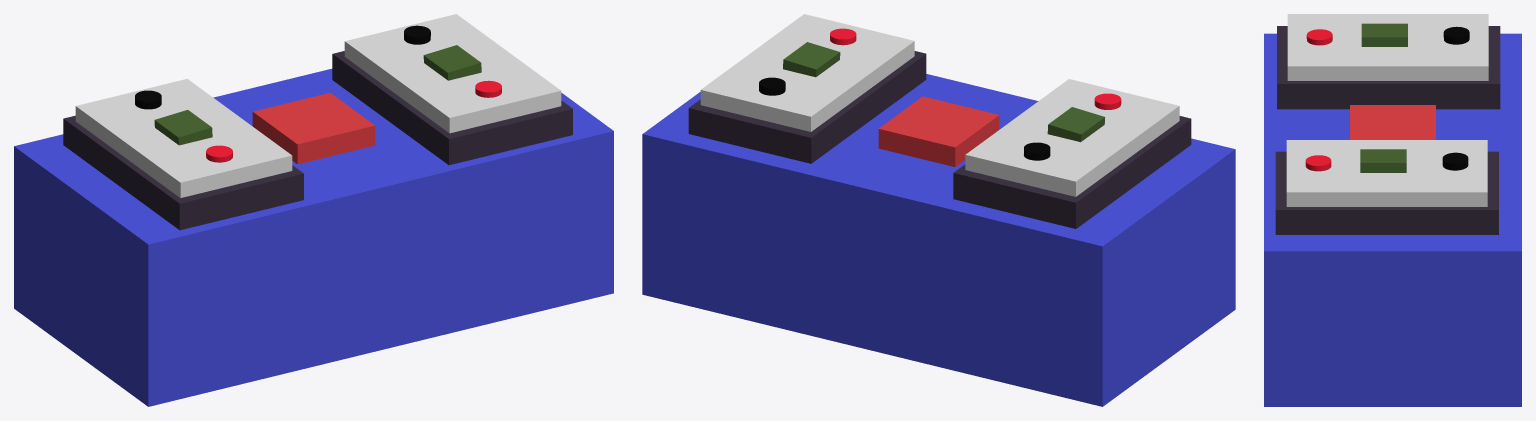
File: Generateur.fbx
The picture shows the model from 3 angles, left to right: view 1: azimuth 30°, elevation 25°; view 2: azimuth 150°, elevation 25°; view 3: azimuth 270°, elevation 25°; orthographic projection. The views are drawn at different scales.
Parts seen in each view (by area): view 1: Cube, Cube.002, Cube.003, Cube.001; view 2: Cube, Cube.002, Cube.003, Cube.001; view 3: Cube, Cube.003, Cube.002, Cube.001.
Part boxes in pixels (left/top/right/bottom): Cube: left=14, top=68, right=613, bottom=406; Cube.002: left=63, top=78, right=303, bottom=230; Cube.003: left=332, top=14, right=572, bottom=165; Cube.001: left=252, top=92, right=375, bottom=164; Cube: left=642, top=74, right=1235, bottom=406; Cube.002: left=953, top=79, right=1191, bottom=228; Cube.003: left=688, top=14, right=926, bottom=163; Cube.001: left=878, top=96, right=999, bottom=166; Cube: left=1264, top=33, right=1521, bottom=406; Cube.003: left=1275, top=140, right=1498, bottom=234; Cube.002: left=1277, top=14, right=1500, bottom=109; Cube.001: left=1350, top=105, right=1435, bottom=139.
Bounding box in the file's own units: 600 × 264 × 300.
